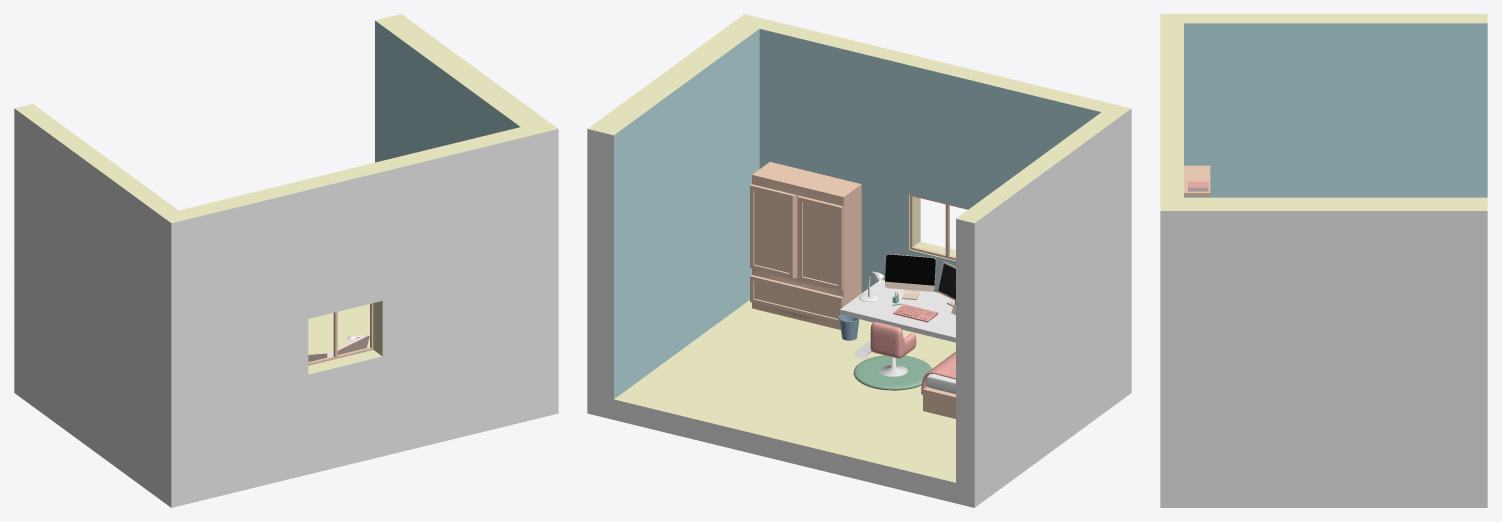
Rendered from Study_Room_25.glb.
The picture shows the model from 3 angles, left to right: view 1: azimuth 30°, elevation 25°; view 2: azimuth 150°, elevation 25°; view 3: azimuth 270°, elevation 25°; orthographic projection. The views are drawn at different scales.
Parts seen in each view (by area): view 1: Room, Window Frame; view 2: Room, Closet, Table Top, Rug, Desktop Screen, Chair, Bedframe, Window Frame; view 3: Room, Shelf.001.
Boxes of the visible parts, x1,y1,x2,y2 form: Room: (14,14,558,507); Window Frame: (308,303,373,365); Room: (587,14,1131,507); Closet: (750,162,861,329); Table Top: (840,279,955,342); Rug: (853,355,931,390); Desktop Screen: (885,254,935,285); Chair: (870,322,916,358); Bedframe: (923,386,955,418); Window Frame: (910,194,968,260); Room: (1160,14,1487,507); Shelf.001: (1184,165,1210,196).
Size of the model in its own units: 27.72 by 19.48 by 19.48.
28 materials, 3 textured.
